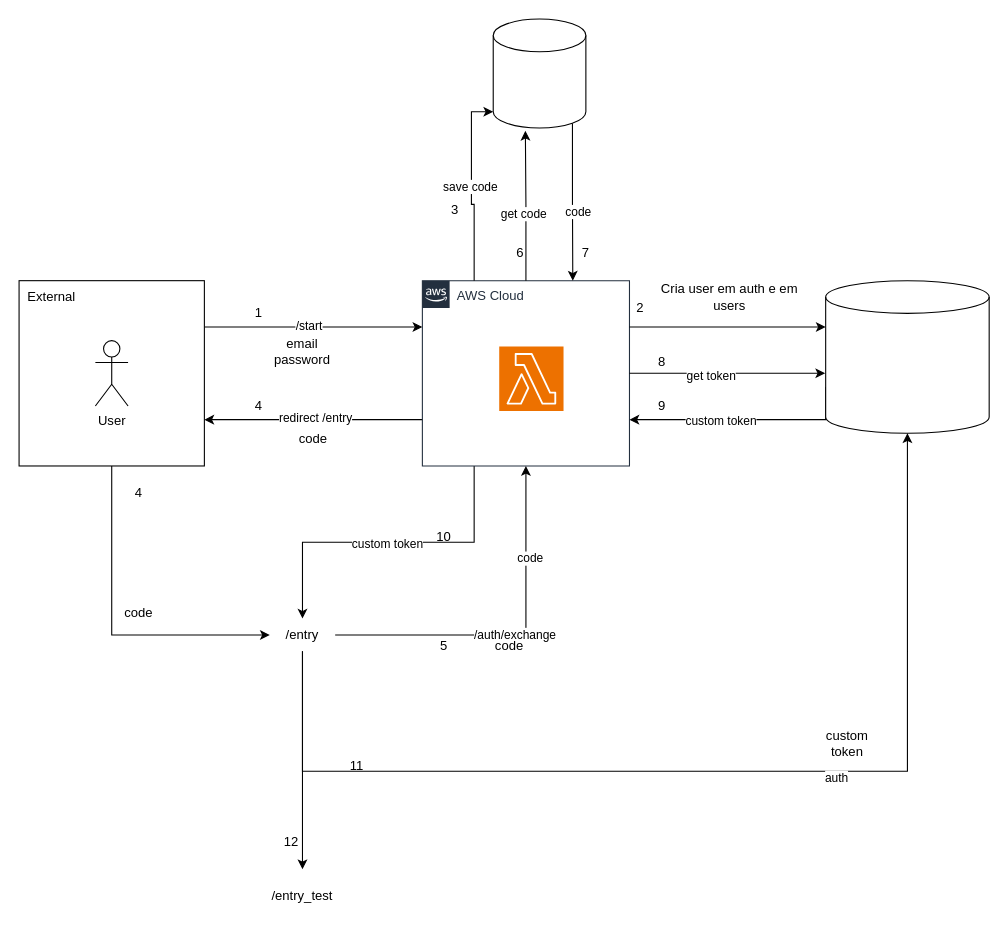
The diagram is 1008 pixels wide and 932 high, and some of its shapes have lost their labels. Here are the shapes that lost their labels. From the top down, the centre of each, then its label:
At point (539, 73): "DynamoDB".
At point (907, 356): "Firebase auth Users table".
